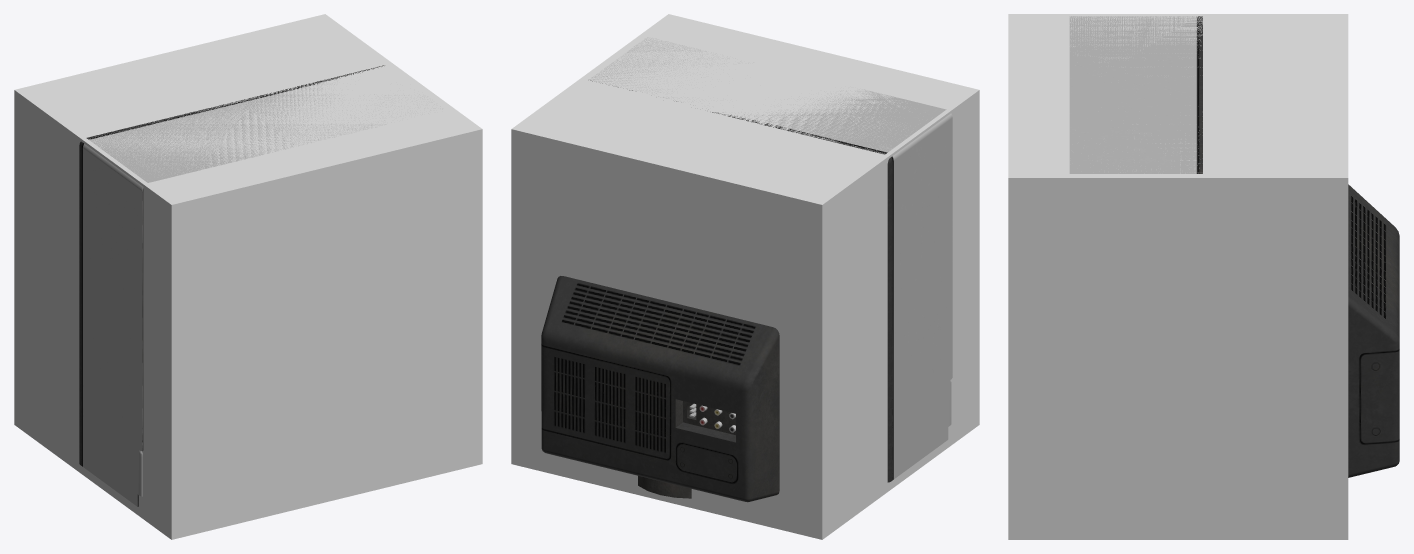
Rendered from security_tv.glb.
The picture shows the model from 3 angles, left to right: view 1: azimuth 30°, elevation 25°; view 2: azimuth 150°, elevation 25°; view 3: azimuth 270°, elevation 25°; orthographic projection. The views are drawn at different scales.
Parts seen in each view (by area): view 1: television_02-col, television_02; view 2: television_02-col, television_02; view 3: television_02-col, television_02.
Part boxes in pixels (box(x1,y1,x2,y2)): television_02-col: box(14, 14, 482, 539); television_02: box(79, 65, 442, 506); television_02-col: box(511, 14, 979, 539); television_02: box(541, 37, 952, 502); television_02-col: box(1008, 14, 1348, 539); television_02: box(1069, 16, 1399, 477).
Size of the model in its own units: 0.4016 by 0.4114 by 0.4034.
Materials: 1 (1 with a texture image).
